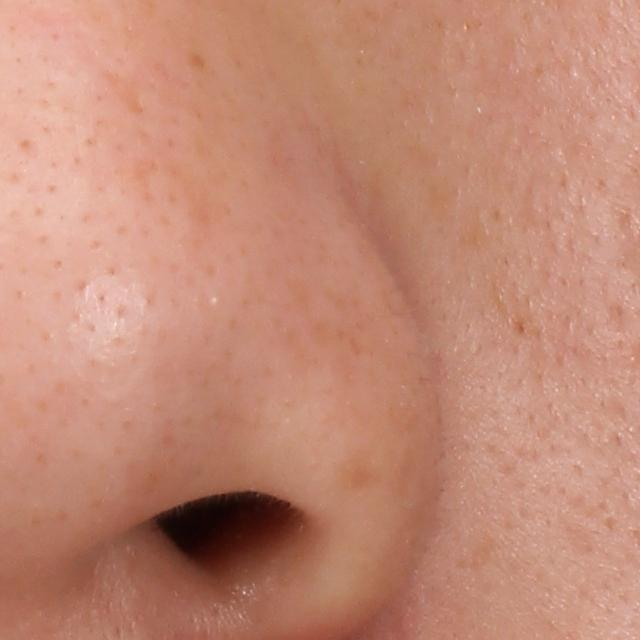melasma: (185, 48, 210, 75)
